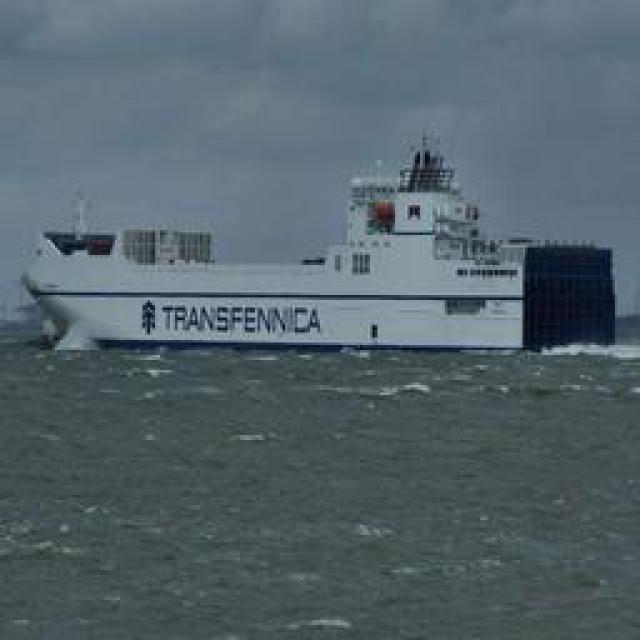Ship: (35, 124, 578, 349)
